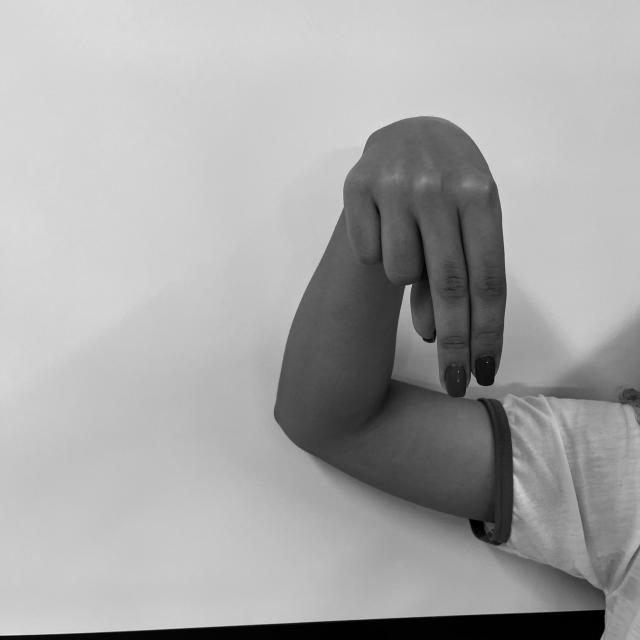Letra N: (339, 107, 517, 401)
